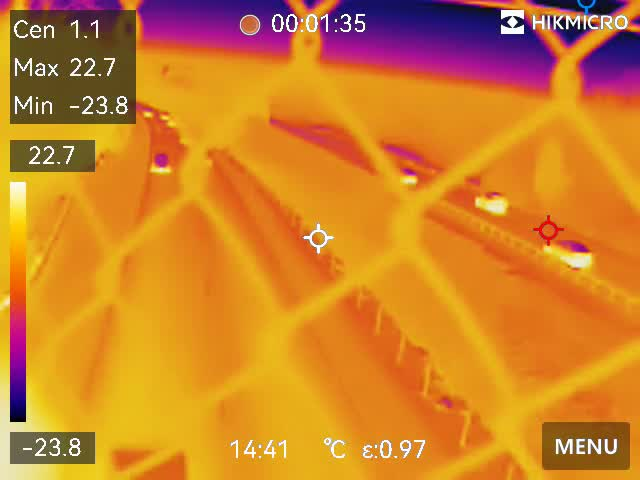vehicle: (547, 237, 595, 270), (471, 188, 514, 218), (390, 163, 423, 186), (149, 151, 176, 174), (142, 108, 154, 121)
